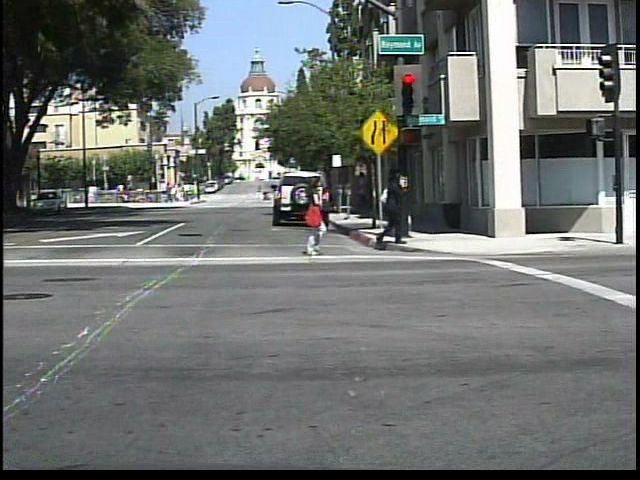person: (370, 166, 414, 251), (290, 172, 333, 256), (262, 188, 273, 204)
